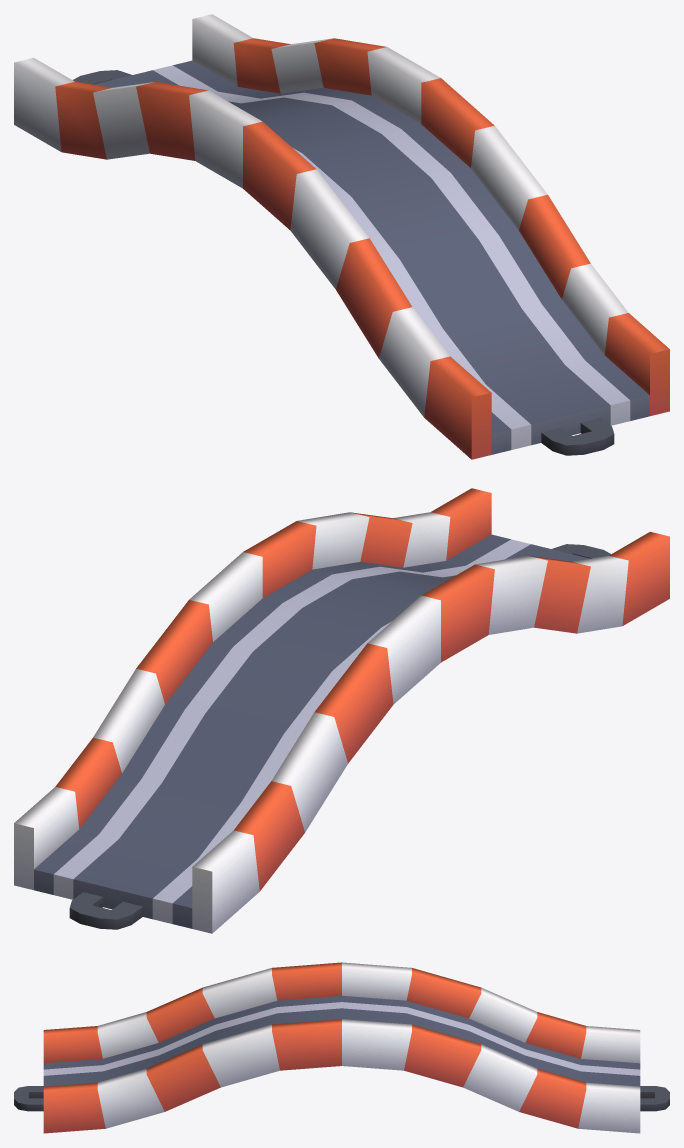
The model's file is track-road-narrow-straight-bump-up.glb.
3 views of the same model, one above another, from view 1: azimuth 30°, elevation 25°; view 2: azimuth 150°, elevation 25°; view 3: azimuth 270°, elevation 25° (orthographic). The views are drawn at different scales.
Parts seen in each view (by area): view 1: track-road-narrow-straight-bump-up; view 2: track-road-narrow-straight-bump-up; view 3: track-road-narrow-straight-bump-up.
Part boxes in pixels (bbox=[...]): track-road-narrow-straight-bump-up: bbox=[14, 14, 669, 459]; track-road-narrow-straight-bump-up: bbox=[14, 488, 669, 933]; track-road-narrow-straight-bump-up: bbox=[14, 962, 669, 1133].
Bounding box in the file's own units: 1 × 0.7998 × 4.4.
1 material, 1 textured.
